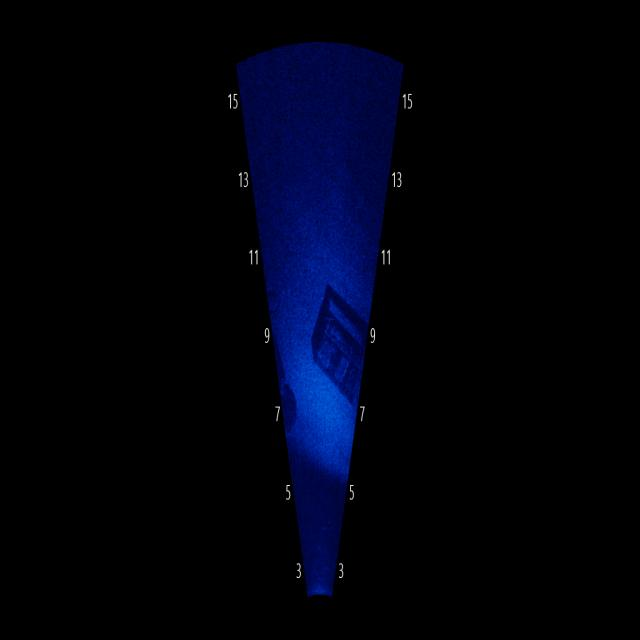square: (306, 278, 374, 418)
